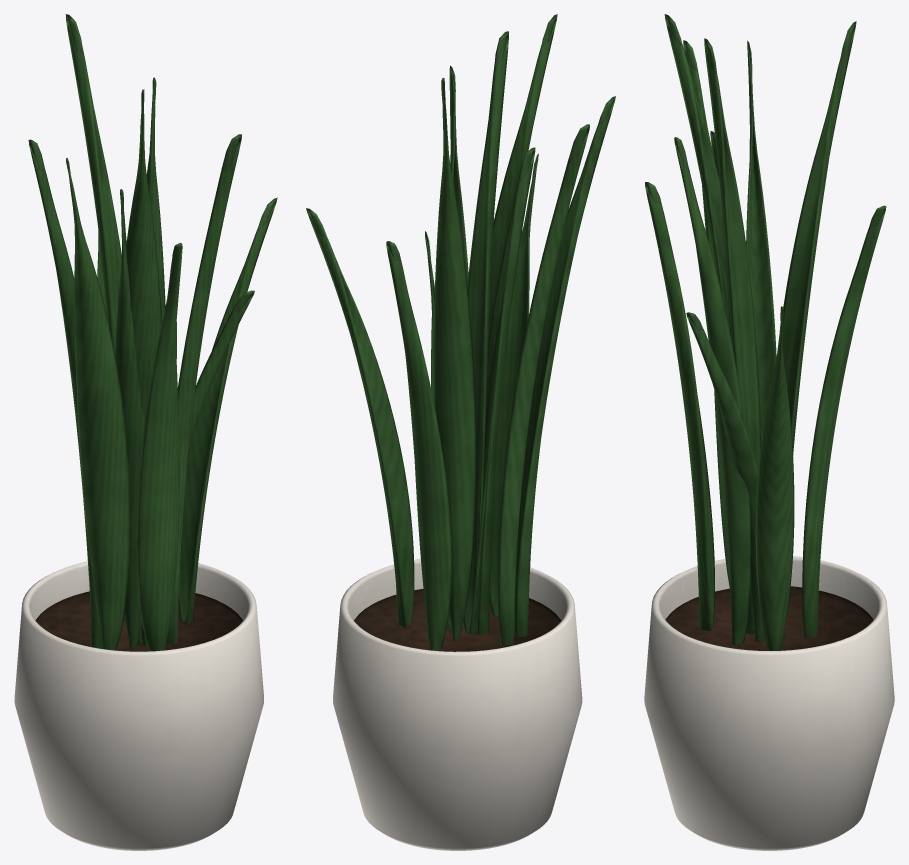
Rendered from snake-plant.glb.
3 views of the same model, side by side, from view 1: azimuth 30°, elevation 25°; view 2: azimuth 150°, elevation 25°; view 3: azimuth 270°, elevation 25° (orthographic).
Parts seen in each view (by area): view 1: leaf_snake, ceramic_primary, soil; view 2: leaf_snake, ceramic_primary, soil; view 3: leaf_snake, ceramic_primary, soil.
Boxes of the visible parts, x1,y1,x2,y2 form: leaf_snake: [28, 14, 277, 651]; ceramic_primary: [14, 561, 263, 850]; soil: [35, 591, 242, 651]; leaf_snake: [306, 14, 615, 650]; ceramic_primary: [333, 559, 582, 850]; soil: [354, 589, 561, 651]; leaf_snake: [645, 14, 886, 650]; ceramic_primary: [644, 556, 894, 850]; soil: [665, 586, 873, 650].
Size of the model in its own units: 0.2957 by 0.8221 by 0.24.
3 materials, 3 textured.
